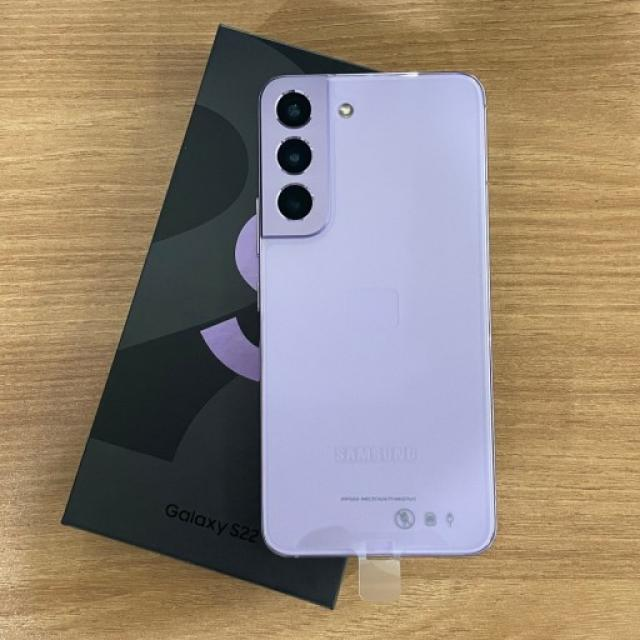Mobile: (255, 63, 500, 574)
